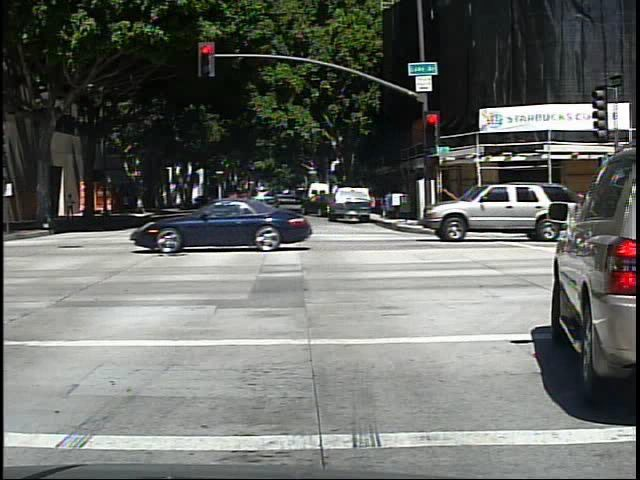person: (64, 191, 78, 222)
